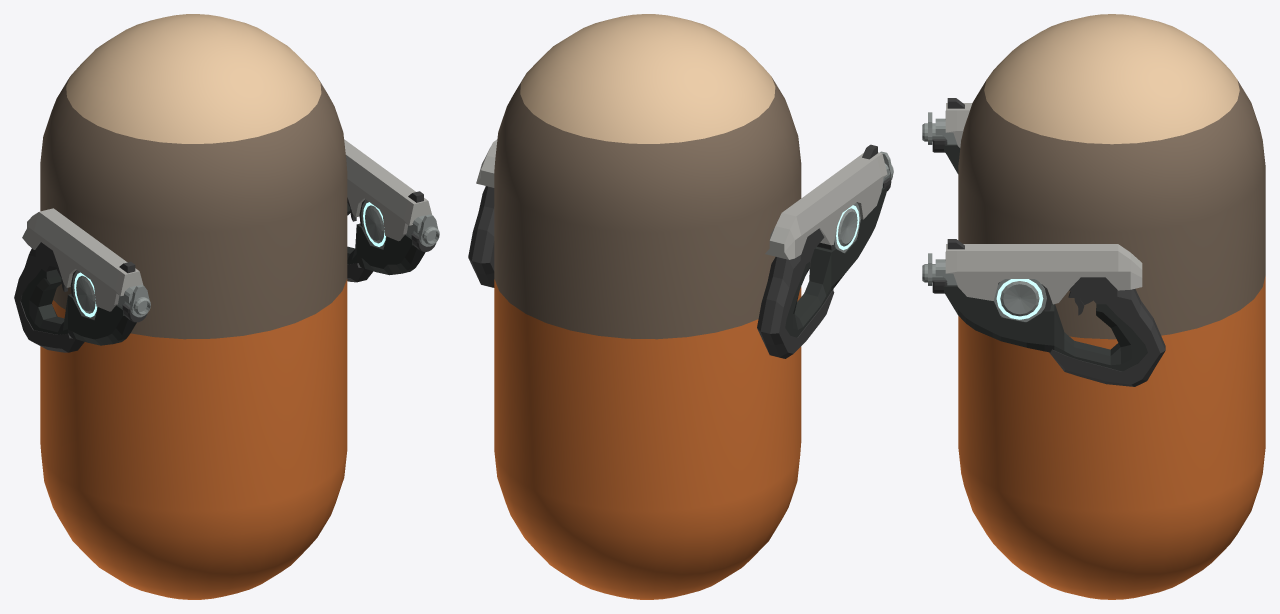
Rendered from TracerCapsule.fbx.
3 views of the same model, side by side, from view 1: azimuth 30°, elevation 25°; view 2: azimuth 150°, elevation 25°; view 3: azimuth 270°, elevation 25° (orthographic).
Visible parts, largest first — view 1: TracerCapsule, Tracer_Gun; view 2: TracerCapsule, Tracer_Gun; view 3: TracerCapsule, Tracer_Gun.
Part boxes in pixels (left/top/right/bottom): TracerCapsule: left=40, top=14, right=347, bottom=599; Tracer_Gun: left=14, top=139, right=439, bottom=352; TracerCapsule: left=494, top=14, right=801, bottom=599; Tracer_Gun: left=468, top=139, right=893, bottom=358; TracerCapsule: left=958, top=14, right=1265, bottom=599; Tracer_Gun: left=922, top=98, right=1165, bottom=386.
Bounding box in the file's own units: 118 × 200 × 112.
